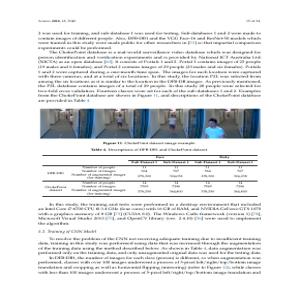image: (33, 107, 264, 142)
table: (34, 151, 259, 199)
text: (34, 28, 262, 106), (36, 200, 263, 276)
